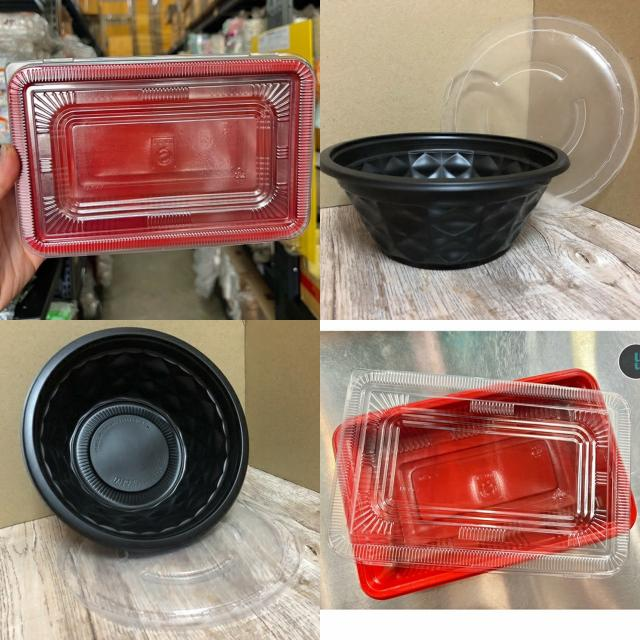Single-Use-Plastic: (332, 369, 635, 599), (328, 370, 631, 582), (9, 55, 314, 256), (21, 328, 249, 551), (442, 15, 636, 210), (320, 132, 569, 268), (58, 501, 302, 628)
